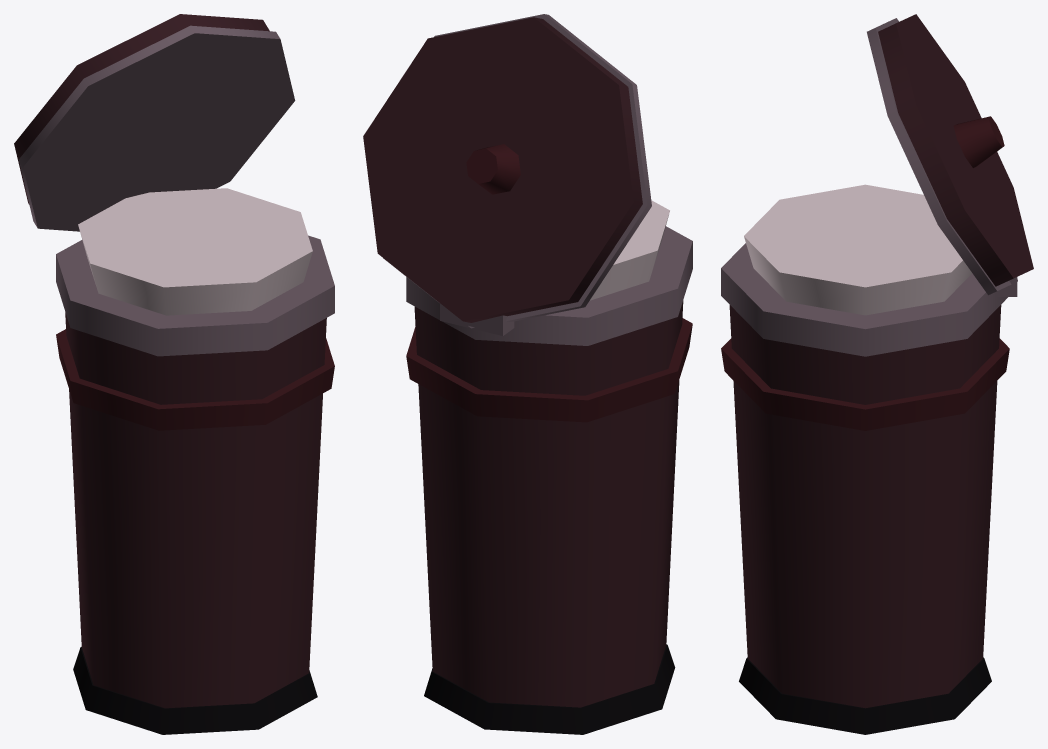
File: SM_TrashBin_LidOpen.obj
3 views of the same model, side by side, from view 1: azimuth 30°, elevation 25°; view 2: azimuth 150°, elevation 25°; view 3: azimuth 270°, elevation 25° (orthographic). The views are drawn at different scales.
Parts seen in each view (by area): view 1: bin_body, lid_lip, refuse_fill, bin_rim, band_upper, bin_foot, lid_disc; view 2: bin_body, lid_disc, bin_rim, band_upper, bin_foot, lid_lip, refuse_fill, lid_knob, hinge; view 3: bin_body, refuse_fill, lid_disc, bin_rim, band_upper, bin_foot, lid_lip, lid_knob.
Part boxes in pixels (x1=…): bin_body: x1=65, y1=312, x2=326, y2=708; lid_lip: x1=18, y1=25, x2=295, y2=231; refuse_fill: x1=78, y1=188, x2=312, y2=315; bin_rim: x1=56, y1=235, x2=334, y2=356; band_upper: x1=56, y1=329, x2=334, y2=430; bin_foot: x1=73, y1=647, x2=317, y2=734; lid_disc: x1=14, y1=14, x2=269, y2=204; bin_body: x1=414, y1=300, x2=683, y2=707; lid_disc: x1=363, y1=17, x2=642, y2=322; bin_rim: x1=406, y1=226, x2=692, y2=345; band_upper: x1=406, y1=318, x2=692, y2=422; bin_foot: x1=424, y1=644, x2=675, y2=734; lid_lip: x1=383, y1=14, x2=651, y2=328; refuse_fill: x1=590, y1=200, x2=669, y2=300; lid_knob: x1=466, y1=144, x2=520, y2=194; hinge: x1=440, y1=303, x2=514, y2=335; bin_body: x1=729, y1=305, x2=1001, y2=708; refuse_fill: x1=744, y1=184, x2=971, y2=315; lid_disc: x1=878, y1=14, x2=1033, y2=286; bin_rim: x1=721, y1=243, x2=1007, y2=356; band_upper: x1=721, y1=338, x2=1009, y2=430; bin_foot: x1=739, y1=657, x2=991, y2=734; lid_lip: x1=867, y1=18, x2=1017, y2=295; lid_knob: x1=953, y1=116, x2=1004, y2=167.
Size of the model in its own units: 0.62 by 1.43 by 0.6176.
